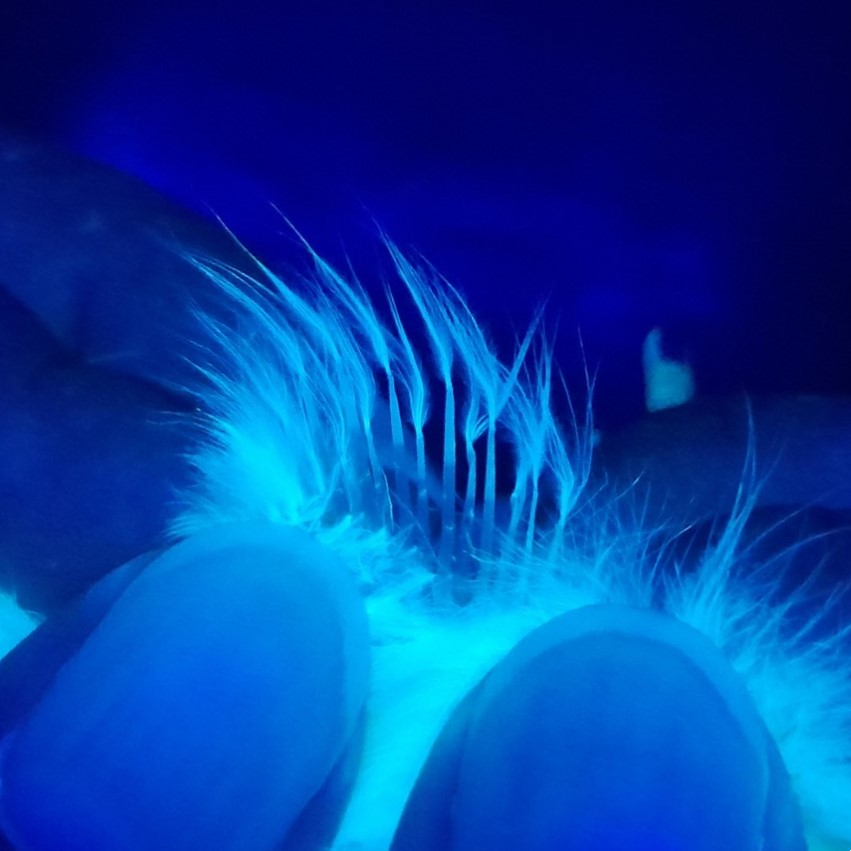male: (259, 310, 590, 622)
